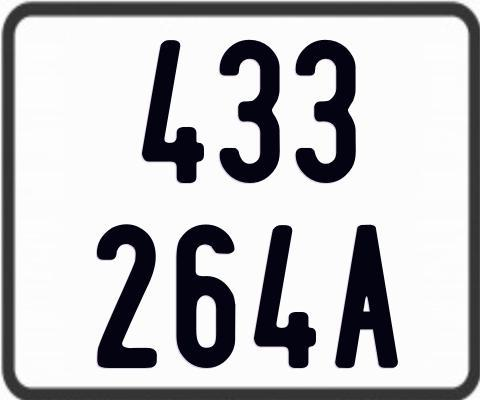2: (97, 221, 159, 367)
3: (220, 38, 284, 187), (295, 38, 355, 186)
4: (141, 39, 209, 187), (253, 225, 321, 369)
6: (173, 225, 237, 368)
A: (333, 222, 402, 368)
